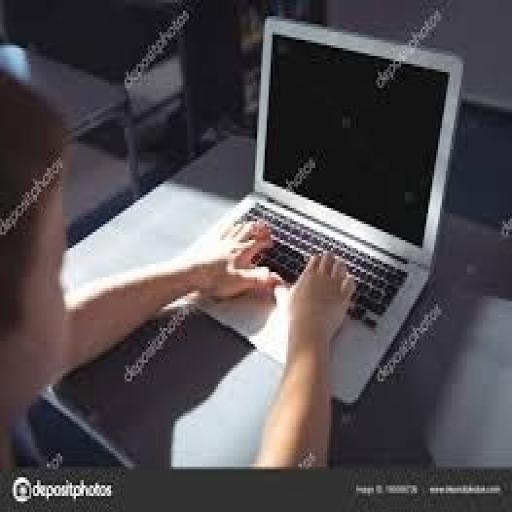using_laptop: (179, 14, 465, 406)
